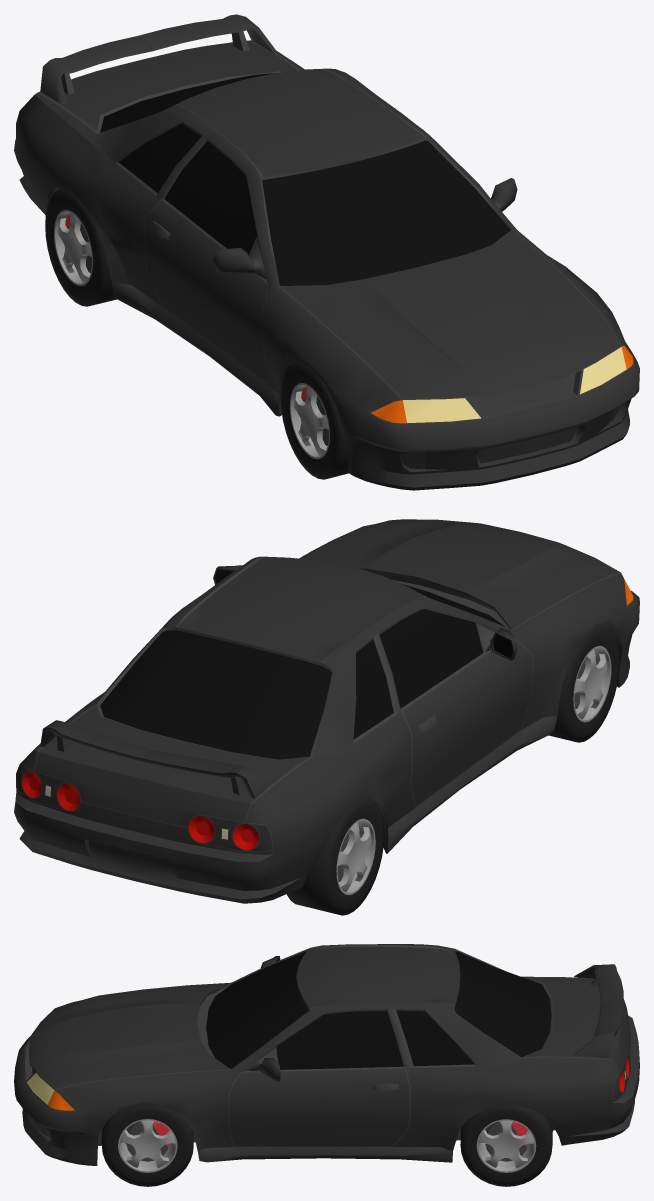
File: nissan_gtr_r32.glb
3 views of the same model, one above another, from view 1: azimuth 30°, elevation 25°; view 2: azimuth 150°, elevation 25°; view 3: azimuth 270°, elevation 25° (orthographic). The views are drawn at different scales.
Parts seen in each view (by area): view 1: Body_CarPaint_Atlas_0, Tire_FR, Tire_RR; view 2: Body_CarPaint_Atlas_0, Tire_RR, Tire_FR; view 3: Body_CarPaint_Atlas_0, Tire_RL, Tire_FL.
Part boxes in pixels (left/top/right/bottom): Body_CarPaint_Atlas_0: left=14, top=14, right=639, bottom=490; Tire_FR: left=280, top=362, right=348, bottom=479; Tire_RR: left=45, top=189, right=116, bottom=306; Body_CarPaint_Atlas_0: left=14, top=519, right=639, bottom=903; Tire_RR: left=286, top=798, right=384, bottom=915; Tire_FR: left=548, top=625, right=619, bottom=742; Body_CarPaint_Atlas_0: left=14, top=944, right=639, bottom=1165; Tire_RL: left=460, top=1104, right=552, bottom=1186; Tire_FL: left=101, top=1104, right=193, bottom=1186.
Bounding box in the file's own units: 1.31 × 0.8998 × 3.1.
2 materials, 1 textured.
